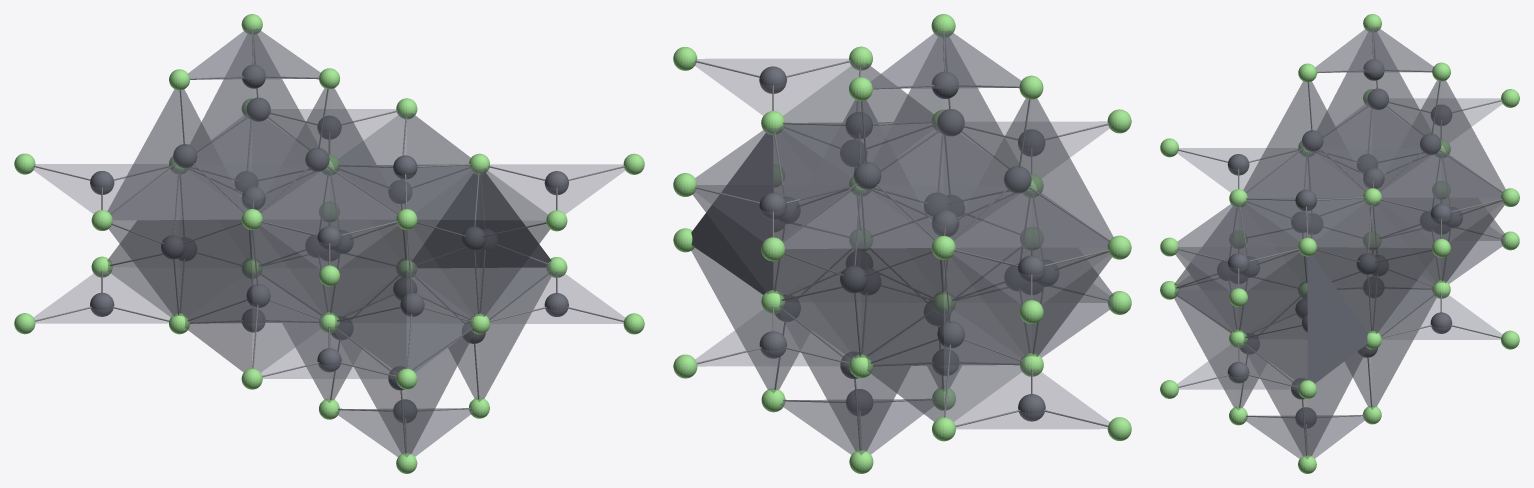
The model's file is LaF3.fbx.
3 renders of one model, left to right at view 1: azimuth 30°, elevation 25°; view 2: azimuth 150°, elevation 25°; view 3: azimuth 270°, elevation 25°, orthographic. The views are drawn at different scales.
Parts seen in each view (by area): view 1: Shape_IndexedFaceSet.042, Shape_IndexedFaceSet.050, Shape_IndexedFaceSet.009, Shape_IndexedFaceSet.025, Shape_IndexedFaceSet.058, Shape_IndexedFaceSet.006, Shape_IndexedFaceSet.038, Shape_IndexedFaceSet.017, Shape_IndexedFaceSet.014, Shape_IndexedFaceSet.036, Shape_IndexedFaceSet.007, Shape_IndexedFaceSet.024 (+52 smaller); view 2: Shape_IndexedFaceSet.051, Shape_IndexedFaceSet.059, Shape_IndexedFaceSet.003, Shape_IndexedFaceSet.043, Shape_IndexedFaceSet.028, Shape_IndexedFaceSet.011, Shape_IndexedFaceSet.031, Shape_IndexedFaceSet.030, Shape_IndexedFaceSet.014, Shape_IndexedFaceSet.035, Shape_IndexedFaceSet.002, Shape_IndexedFaceSet.071 (+65 smaller); view 3: Shape_IndexedFaceSet.056, Shape_IndexedFaceSet.040, Shape_IndexedFaceSet.032, Shape_IndexedFaceSet.048, Shape_IndexedFaceSet.024, Shape_IndexedFaceSet.012, Shape_IndexedFaceSet.035, Shape_IndexedFaceSet.014, Shape_IndexedFaceSet, Shape_IndexedFaceSet.033, Shape_IndexedFaceSet.055, Shape_IndexedFaceSet.034 (+52 smaller).
Part boxes in pixels (x1,y1,x2,y2): Shape_IndexedFaceSet.042: (258, 88, 401, 219); Shape_IndexedFaceSet.050: (107, 89, 246, 219); Shape_IndexedFaceSet.009: (109, 220, 245, 316); Shape_IndexedFaceSet.025: (413, 220, 549, 316); Shape_IndexedFaceSet.058: (201, 79, 305, 164); Shape_IndexedFaceSet.006: (335, 228, 473, 323); Shape_IndexedFaceSet.038: (185, 228, 323, 323); Shape_IndexedFaceSet.017: (259, 220, 399, 315); Shape_IndexedFaceSet.014: (412, 173, 551, 267); Shape_IndexedFaceSet.036: (252, 228, 323, 372); Shape_IndexedFaceSet.007: (335, 228, 406, 372); Shape_IndexedFaceSet.024: (479, 169, 549, 316); Shape_IndexedFaceSet.051: (950, 98, 1113, 247); Shape_IndexedFaceSet.059: (779, 100, 937, 248); Shape_IndexedFaceSet.003: (781, 248, 936, 358); Shape_IndexedFaceSet.043: (886, 88, 1004, 185); Shape_IndexedFaceSet.028: (867, 258, 1024, 365); Shape_IndexedFaceSet.011: (951, 248, 1111, 356); Shape_IndexedFaceSet.031: (944, 258, 1025, 421); Shape_IndexedFaceSet.030: (867, 258, 943, 421); Shape_IndexedFaceSet.014: (691, 133, 772, 294); Shape_IndexedFaceSet.035: (693, 185, 807, 293); Shape_IndexedFaceSet.002: (784, 189, 933, 248); Shape_IndexedFaceSet.071: (871, 30, 1020, 88); Shape_IndexedFaceSet.056: (1377, 80, 1505, 197); Shape_IndexedFaceSet.040: (1243, 81, 1367, 197); Shape_IndexedFaceSet.032: (1313, 247, 1434, 333); Shape_IndexedFaceSet.048: (1327, 72, 1419, 148); Shape_IndexedFaceSet.024: (1175, 247, 1301, 332); Shape_IndexedFaceSet.012: (1243, 255, 1307, 383); Shape_IndexedFaceSet.035: (1372, 201, 1434, 332); Shape_IndexedFaceSet.014: (1307, 255, 1367, 383); Shape_IndexedFaceSet: (1380, 198, 1504, 282); Shape_IndexedFaceSet.033: (1314, 201, 1371, 332); Shape_IndexedFaceSet.055: (1267, 346, 1367, 455); Shape_IndexedFaceSet.034: (1315, 201, 1433, 247).
Bounding box in the file's own units: 1628 × 1165 × 1106.
